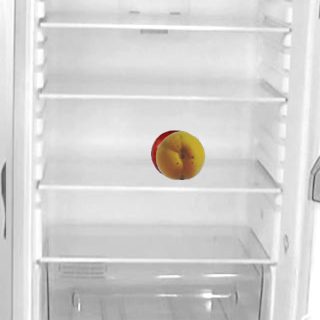Apple Braeburn: (150, 129, 200, 179)
Peach 2: (155, 129, 205, 179)
